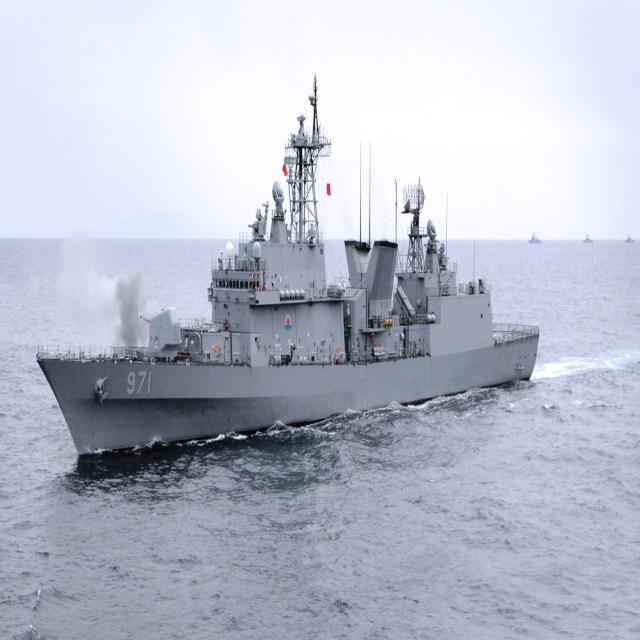navalvessels: (22, 86, 557, 498)
